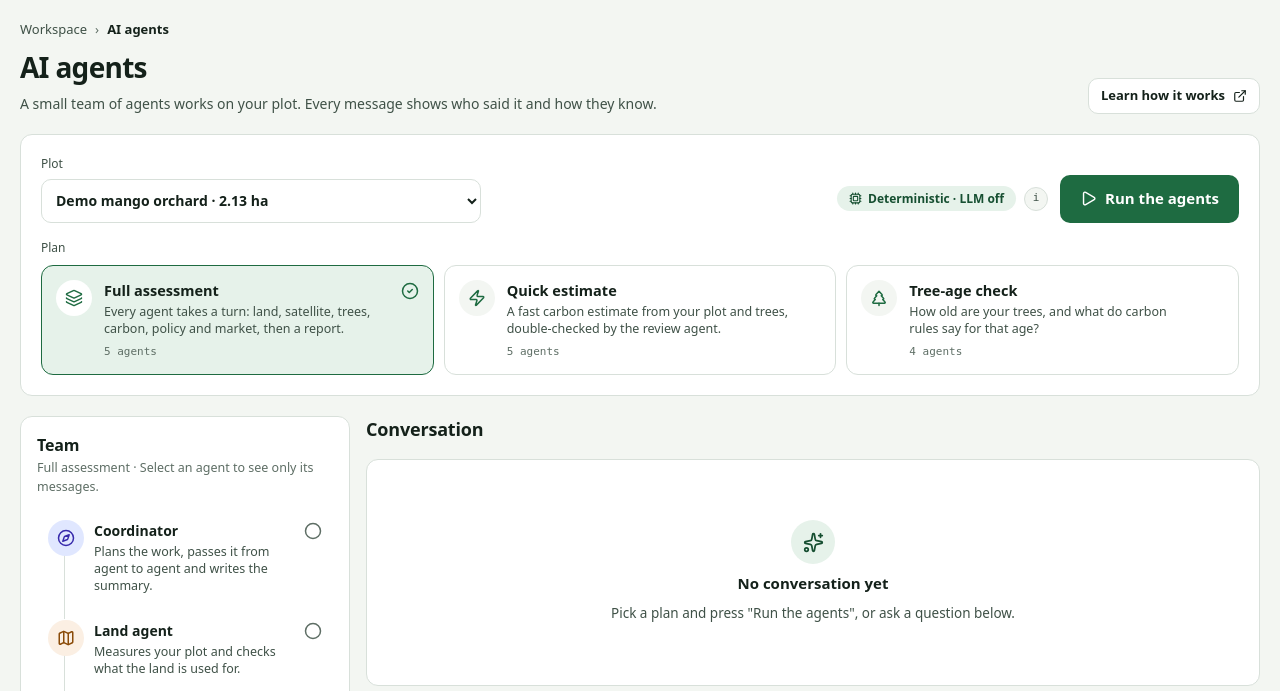
Test case: AgentsPage › shows the API problem detail when a run is refused
This screenshot has width=1280, height=691.
Click the button "Run the agents". click: (1150, 198)
box: x1=1060 y1=174 x2=1239 y2=222
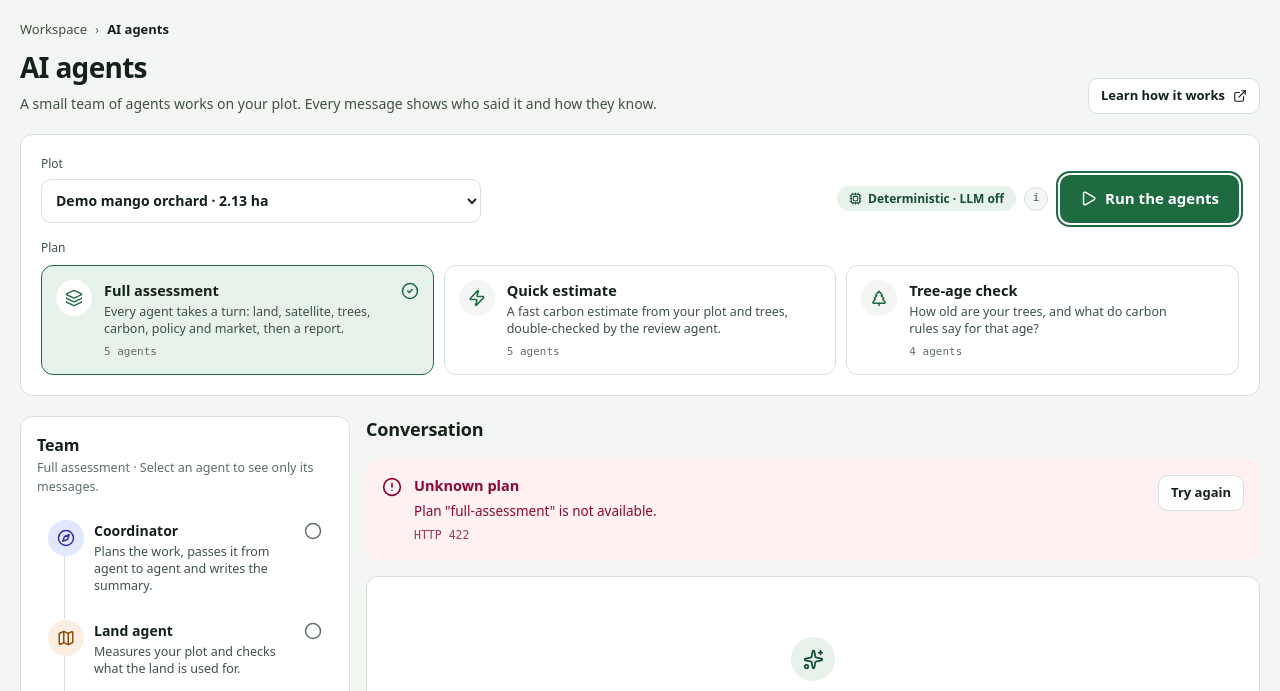
expect the text "Unknown plan" is shown: met, box x1=414 y1=475 x2=519 y2=495
expect the text "Plan \"full-assessment\" is not available." is shown: met, box x1=414 y1=502 x2=657 y2=520
expect the text "HTTP 422" is shown: met, box x1=414 y1=528 x2=469 y2=542
